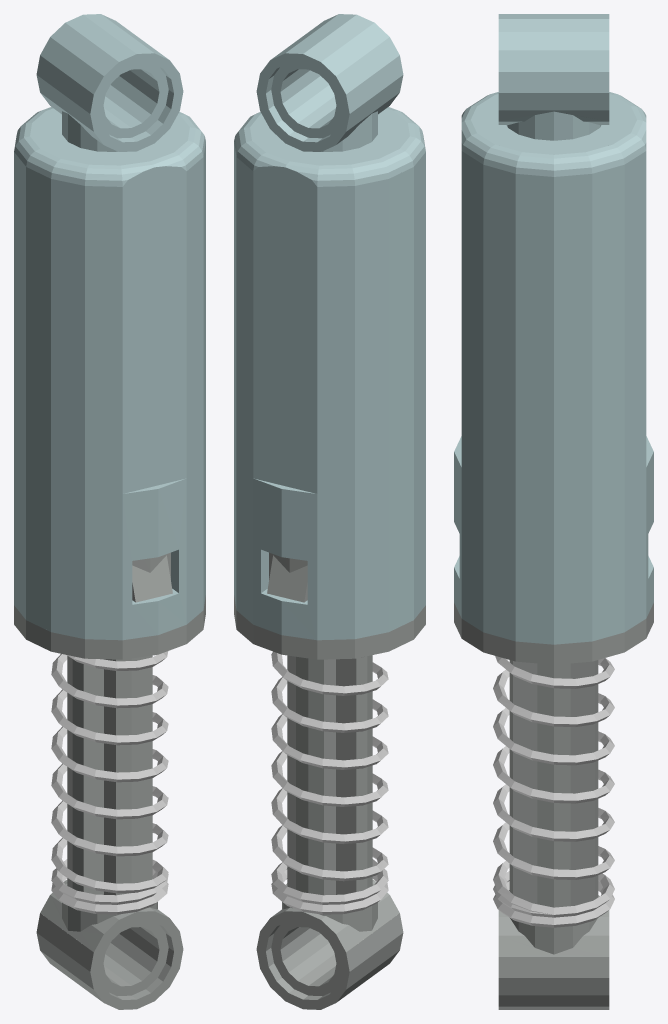
3 views of the same model, side by side, from view 1: azimuth 30°, elevation 25°; view 2: azimuth 150°, elevation 25°; view 3: azimuth 270°, elevation 25° (orthographic). The views are drawn at different scales.
Parts seen in each view (by area): view 1: world; view 2: world; view 3: world.
Boxes of the visible parts, x1=… form: world: x1=14, y1=14, x2=205, y2=1009; world: x1=234, y1=14, x2=425, y2=1009; world: x1=454, y1=14, x2=653, y2=1009.
Size of the model in its own units: 0.0144 by 0.0784 by 0.0144.
